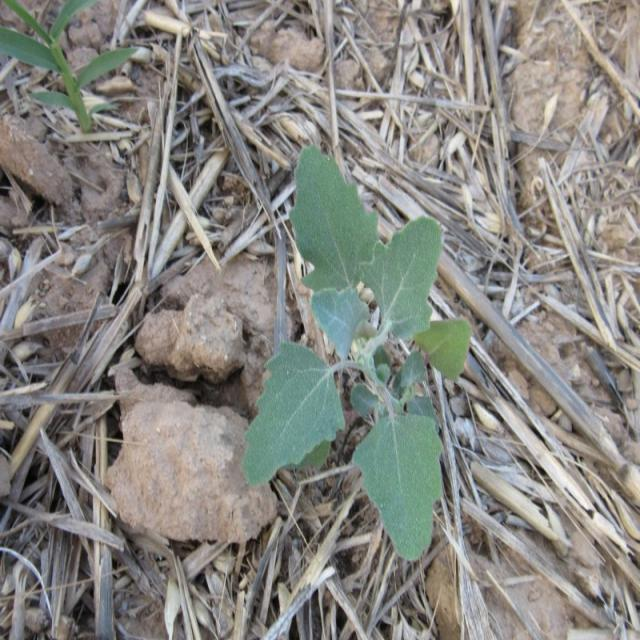ca: (288, 142, 468, 553)
